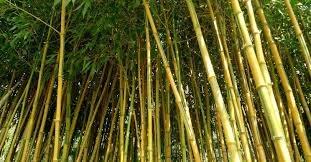bamboo: (12, 6, 299, 147)
